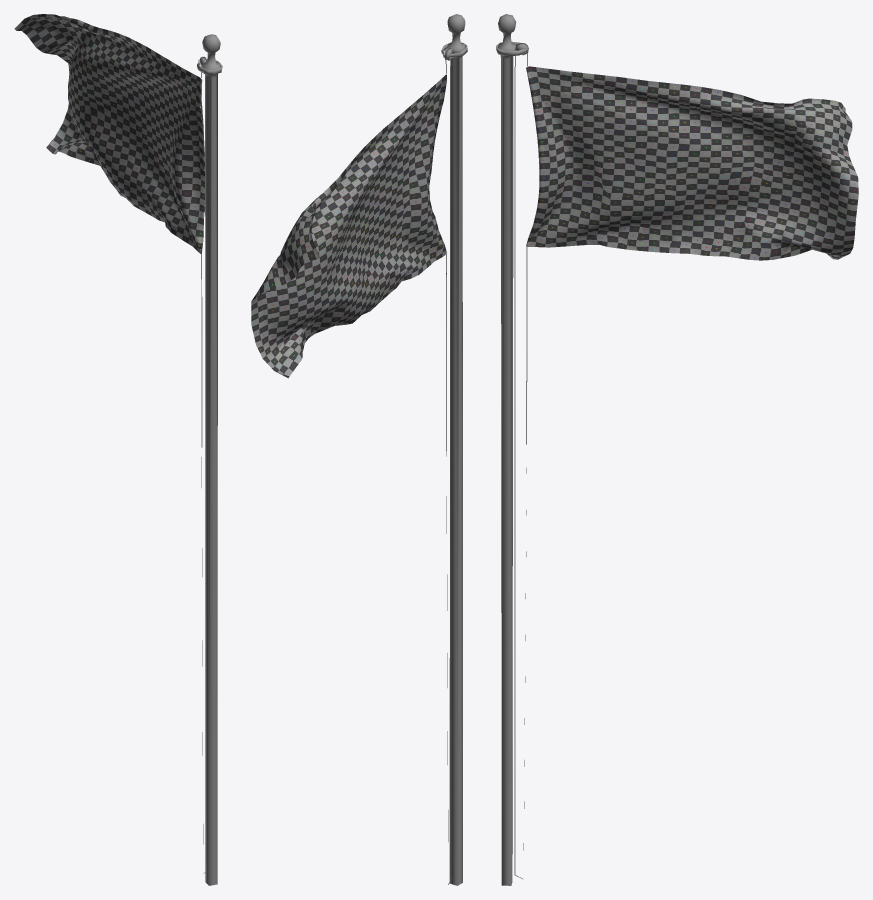
3 views of the same model, side by side, from view 1: azimuth 30°, elevation 25°; view 2: azimuth 150°, elevation 25°; view 3: azimuth 270°, elevation 25° (orthographic). The views are drawn at different scales.
Parts seen in each view (by area): view 1: Flaga.002_0; view 2: Flaga.002_0; view 3: Flaga.002_0.
Boxes of the visible parts, x1,y1,x2,y2 form: Flaga.002_0: [14, 14, 222, 885]; Flaga.002_0: [251, 14, 467, 885]; Flaga.002_0: [496, 14, 858, 885].
Size of the model in its own units: 1.1 by 14.34 by 5.43.
Materials: 3 (1 with a texture image).
